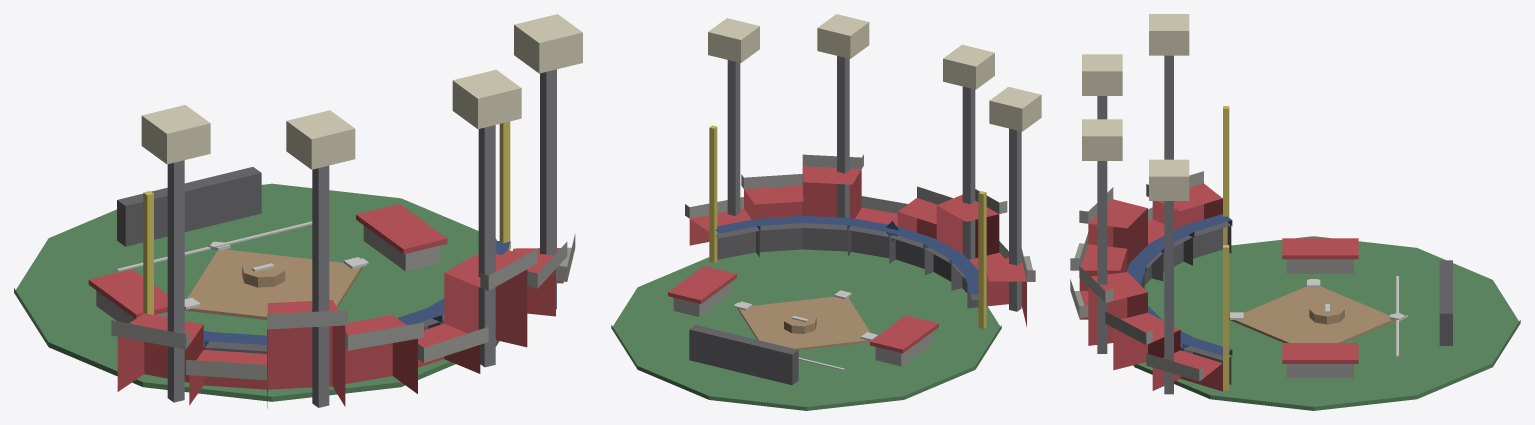
Rendered from estadio.glb.
3 views of the same model, side by side, from view 1: azimuth 30°, elevation 25°; view 2: azimuth 150°, elevation 25°; view 3: azimuth 270°, elevation 25° (orthographic). The views are drawn at different scales.
Parts seen in each view (by area): view 1: estadio; view 2: estadio; view 3: estadio.
Boxes of the visible parts, x1,y1,x2,y2 form: estadio: (14,14,582,408); estadio: (611,14,1041,410); estadio: (1070,14,1520,410).
Size of the model in its own units: 0.191 by 0.112 by 0.2002.
